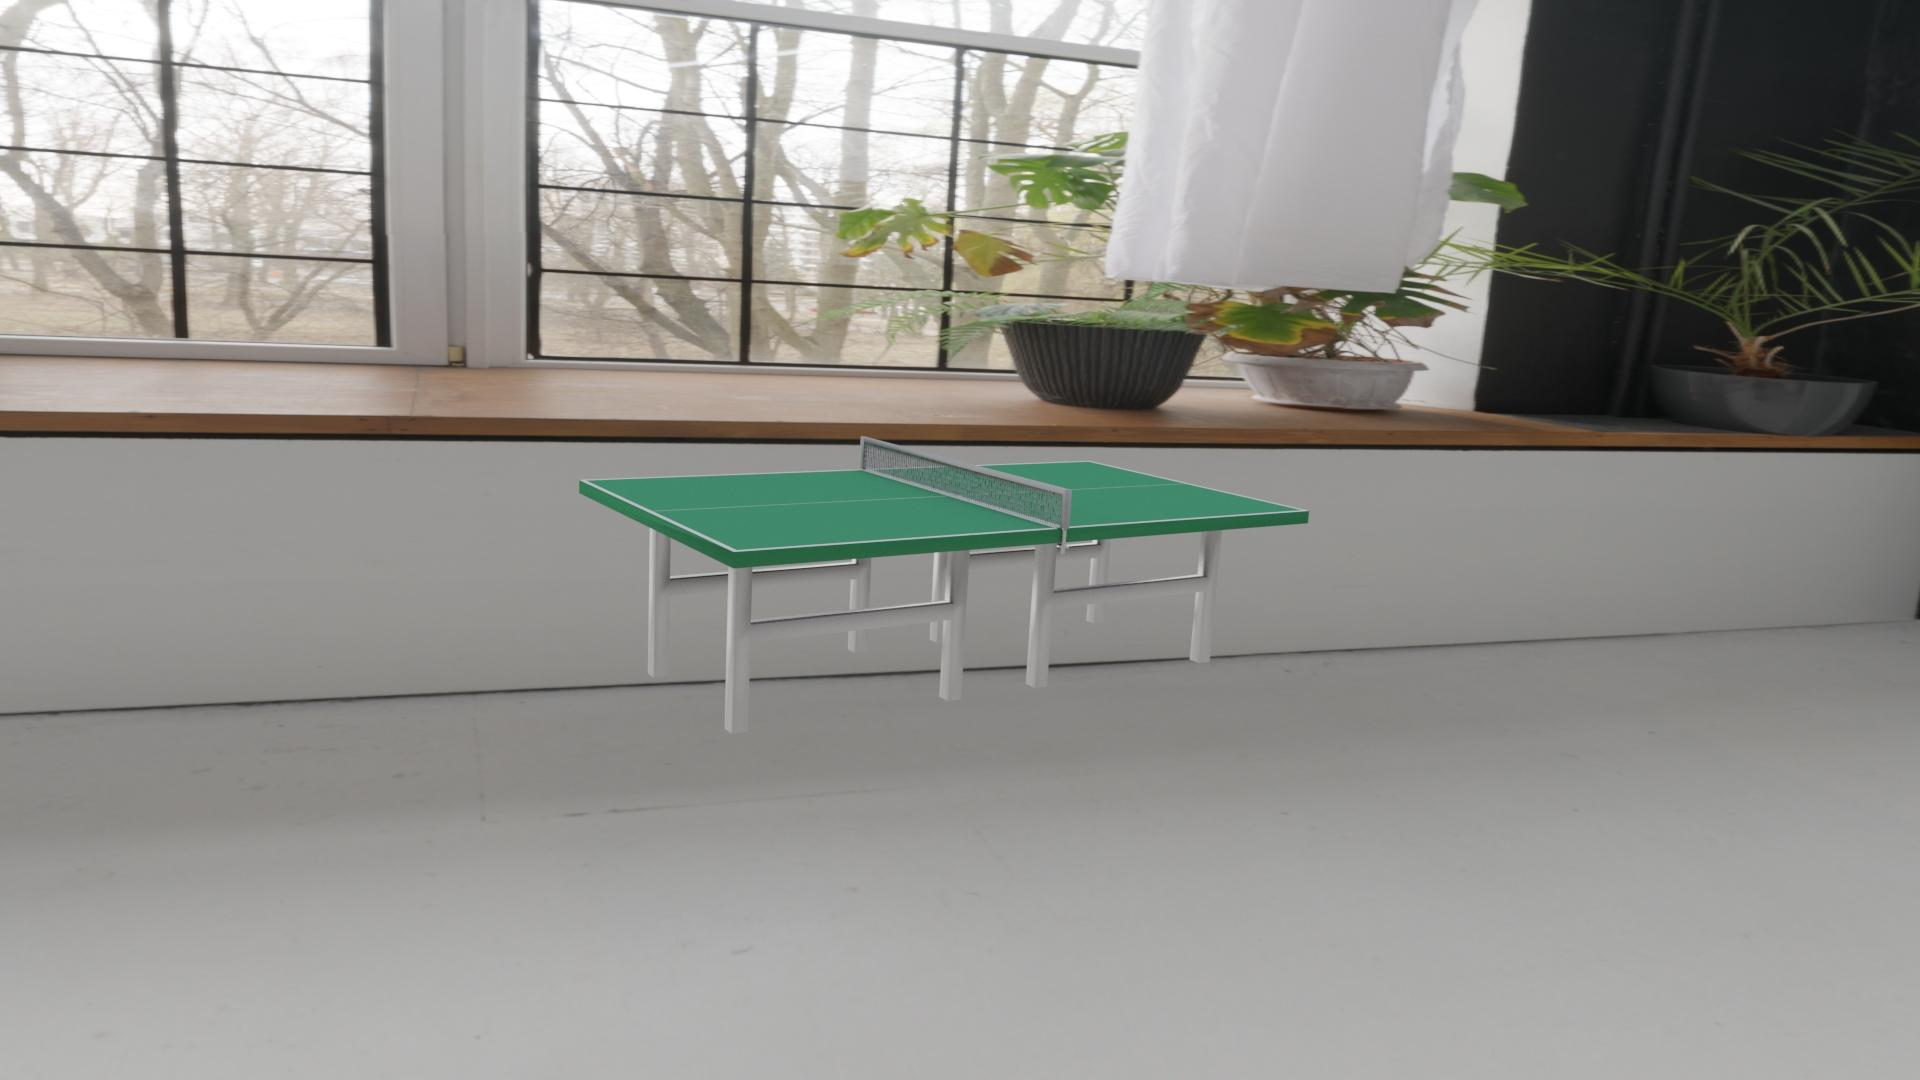table: (585, 462, 1303, 550)
